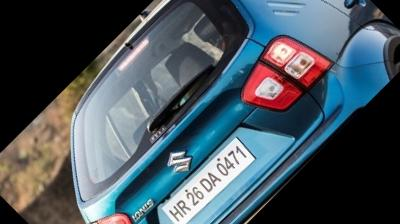plate: (151, 121, 270, 224)
